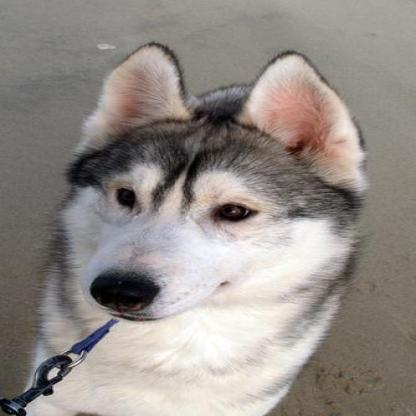Siberian_husky: (31, 44, 366, 414)
